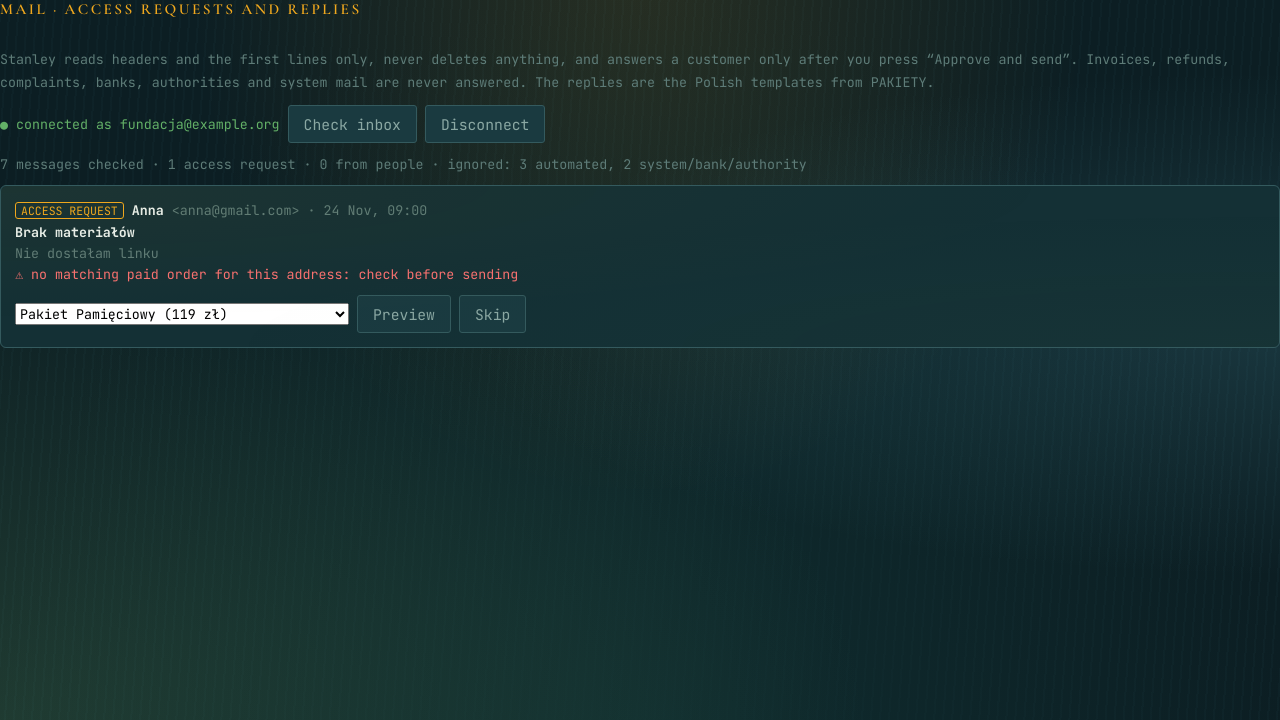
MailPanel: approval flow › an unverified buyer: Approve stays disabled until the explicit "send anyway" box is ticked; then confirmUnverified: true
The image size is (1280, 720).
Later steps or results of the test are not shown.
Click the button "Preview": (404, 314) [357,295,451,333]
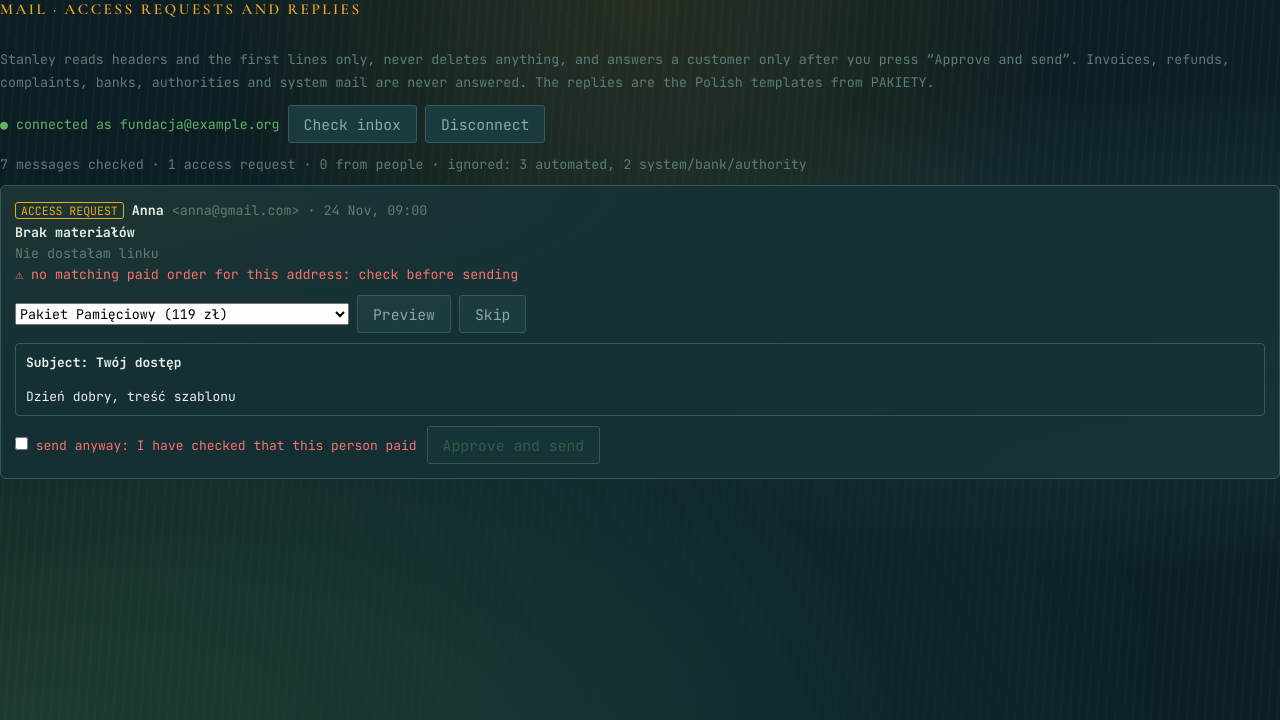
Expected: the button "Approve and send" is disabled, [427,426,600,464]
Click the checkbox labelled "send anyway: I have checked that this person paid": (22, 443) [15,437,28,450]
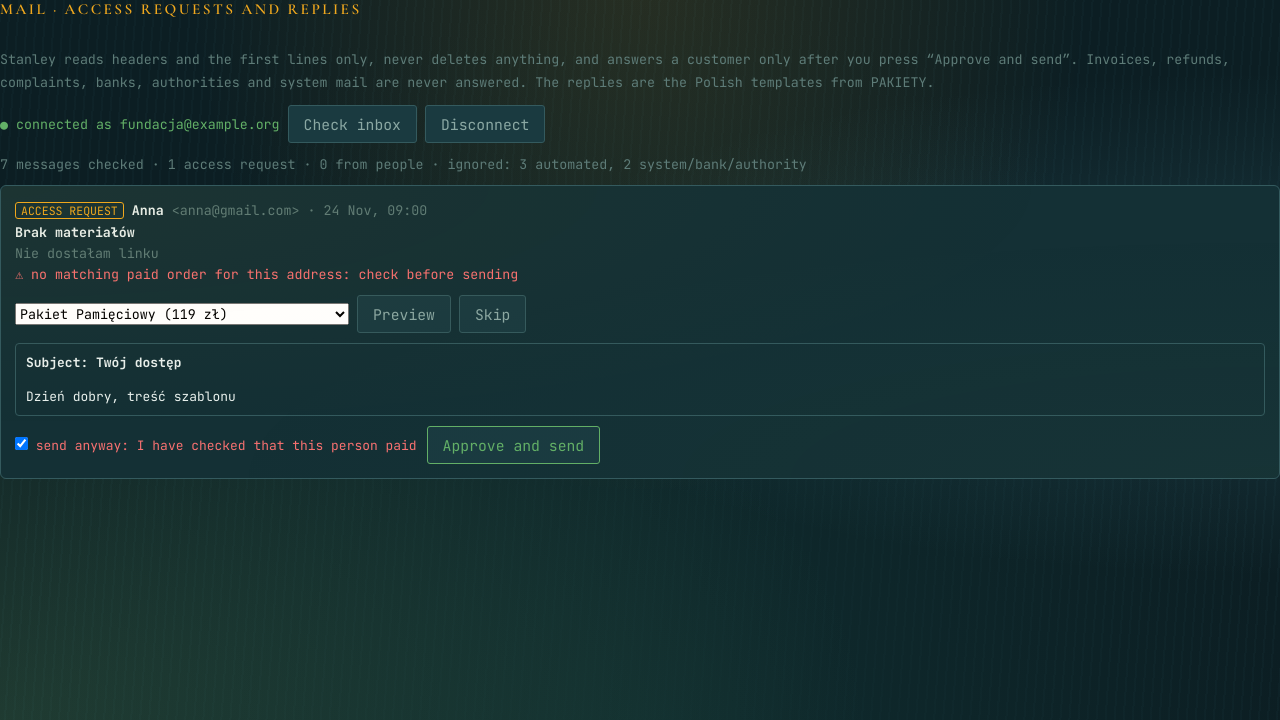
Expected: the button "Approve and send" is enabled, [427,426,600,464]
